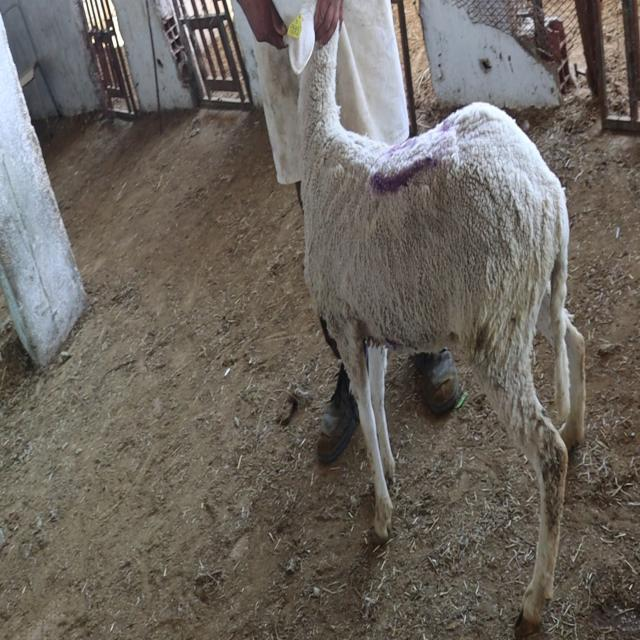Score_3: (284, 1, 585, 629)
